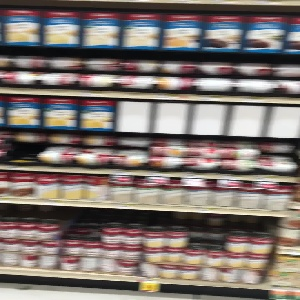void: (4, 129, 39, 165)
